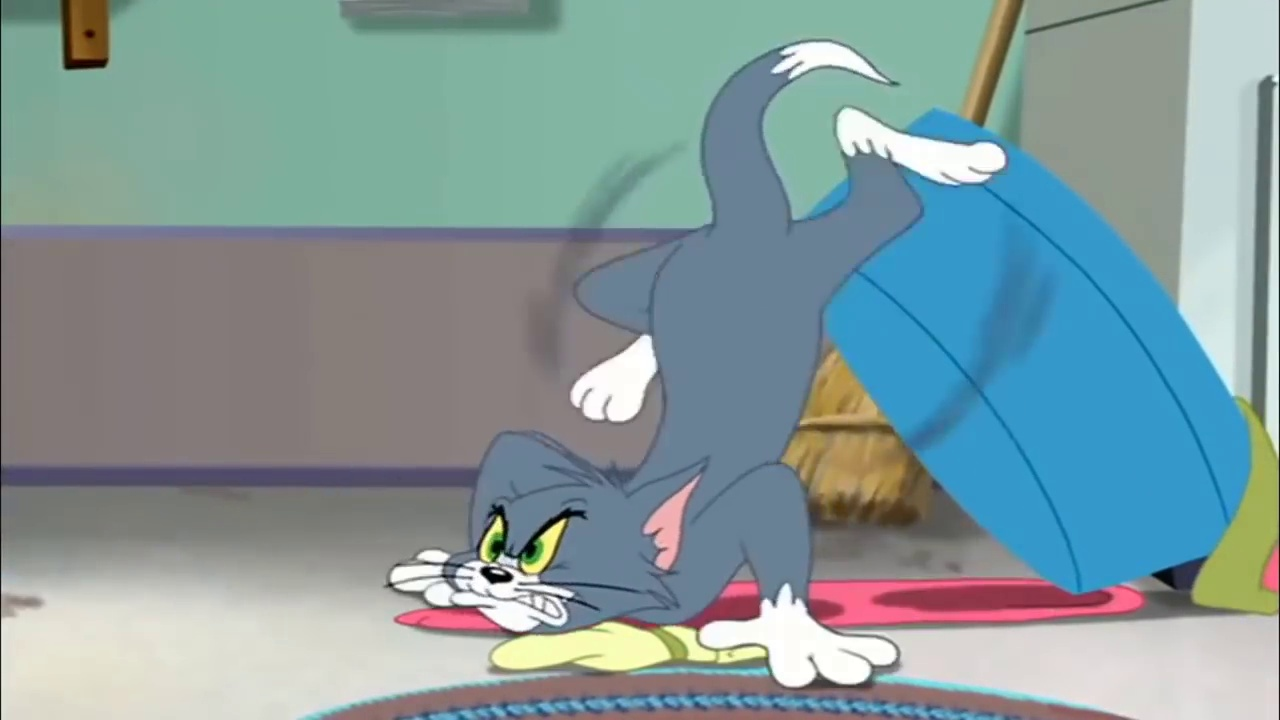face: (450, 495, 616, 630)
